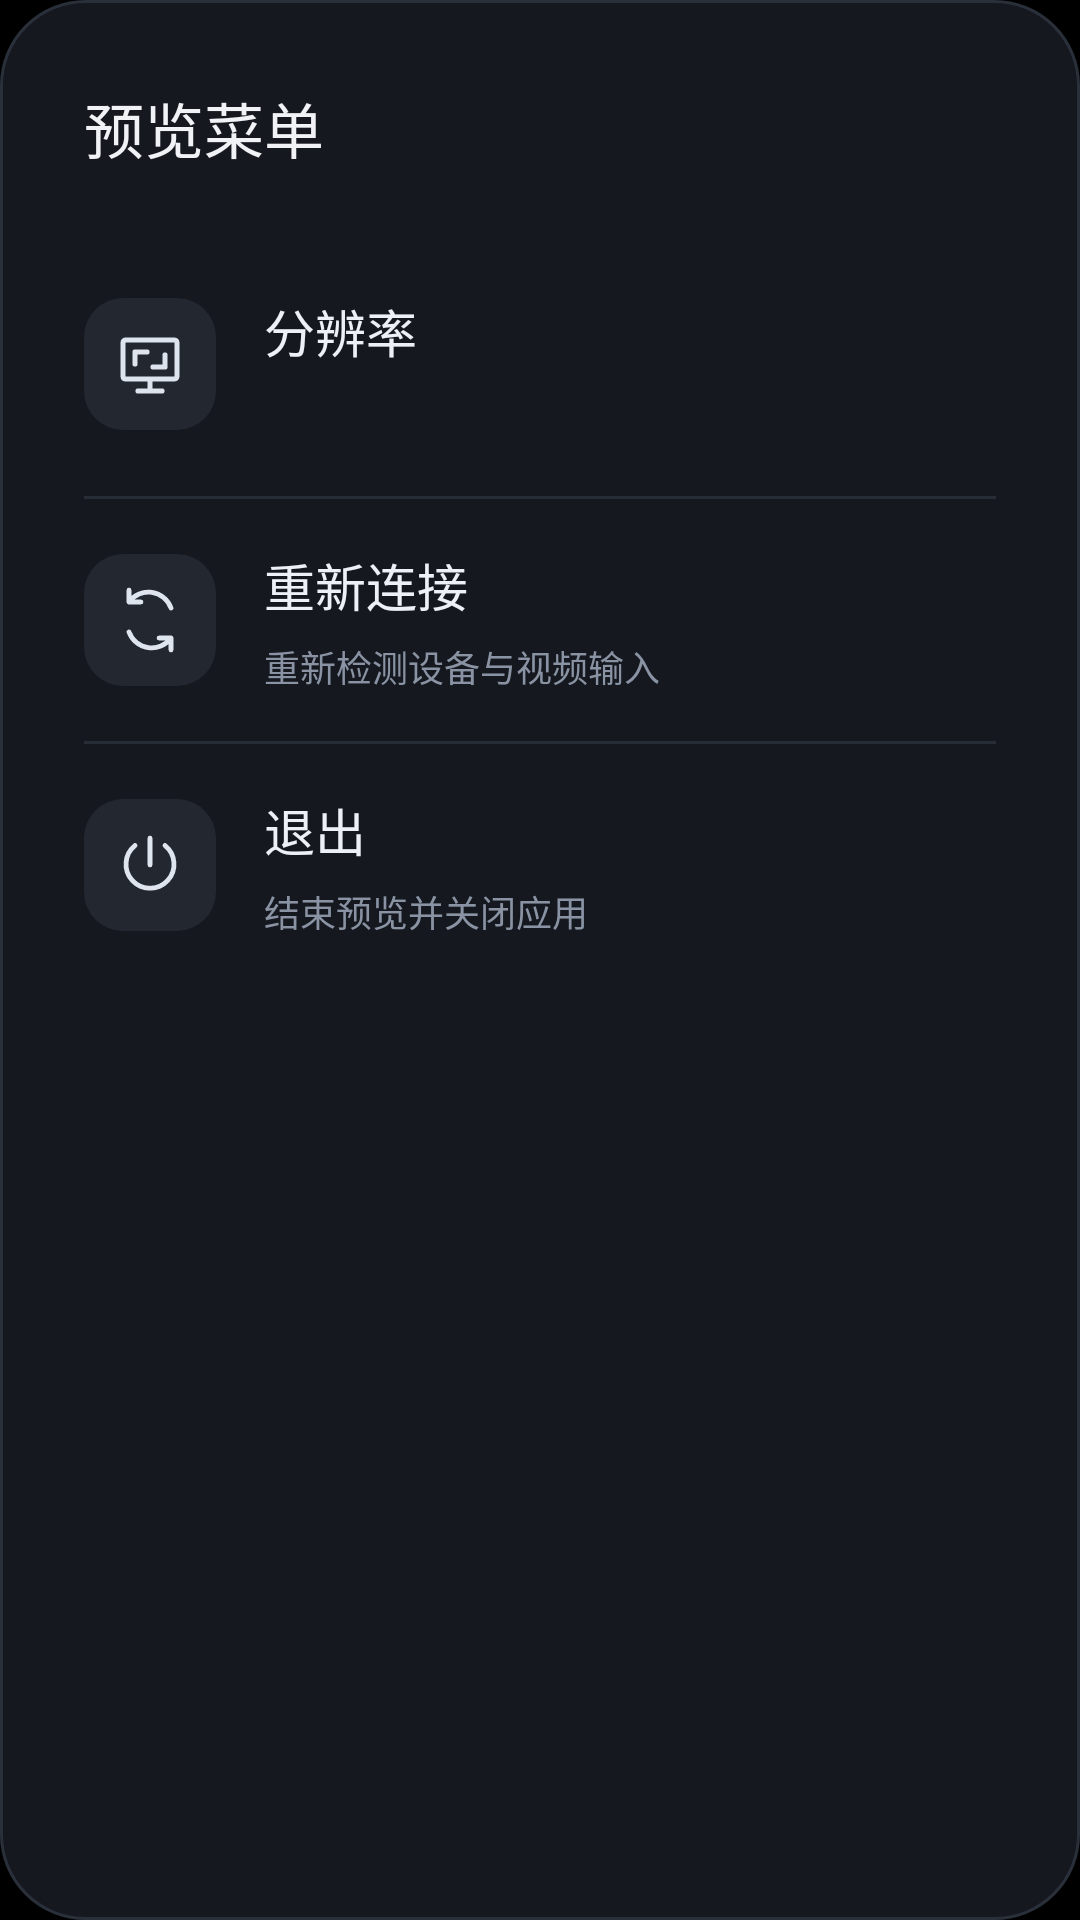

Locate icon controls on the screen. Image size 1080w x 1920h, boxes as (x1, y1, x2, y2).
exit: (84, 799, 216, 931)
reconnect: (84, 554, 216, 686)
resolution: (84, 298, 216, 430)
